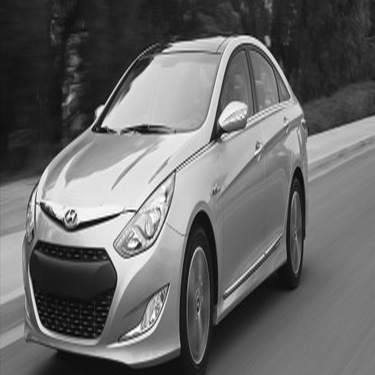car: (19, 28, 316, 371)
